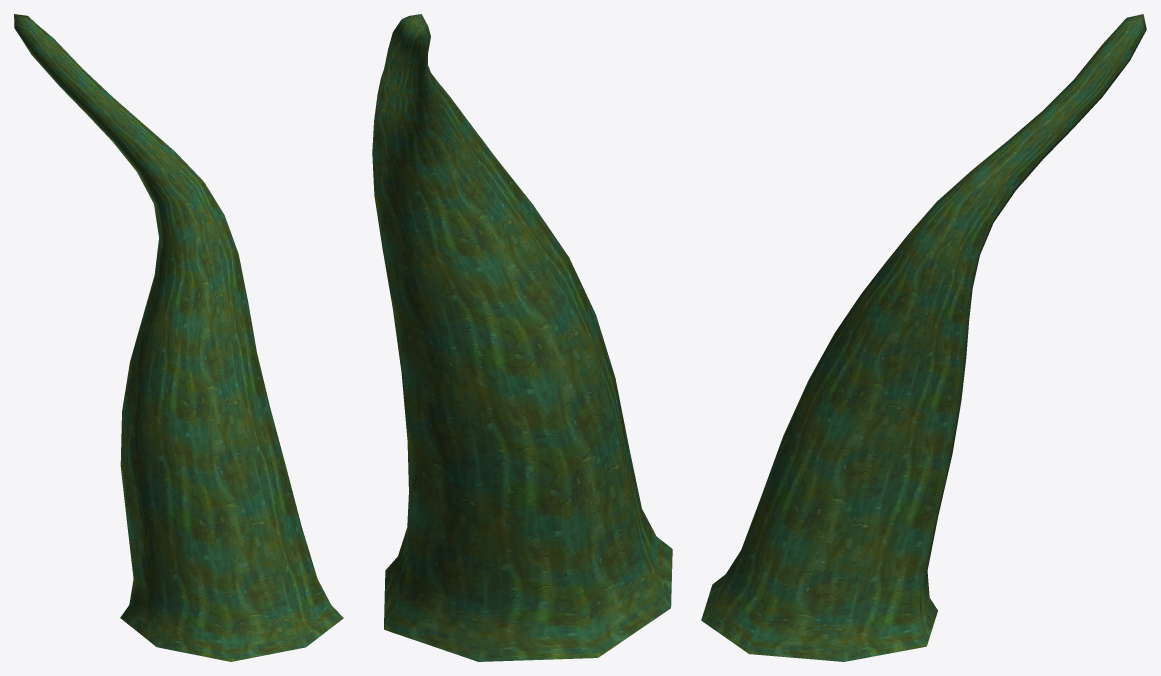
The model's file is MIRKWOOD_MIRK_PLAYSURFACE177.fbx.
3 renders of one model, left to right at view 1: azimuth 30°, elevation 25°; view 2: azimuth 150°, elevation 25°; view 3: azimuth 270°, elevation 25°, orthographic. The views are drawn at different scales.
Visible parts, largest first — view 1: MIRKWOOD_MIRK_PLAYSURFACE177; view 2: MIRKWOOD_MIRK_PLAYSURFACE177; view 3: MIRKWOOD_MIRK_PLAYSURFACE177.
Boxes of the visible parts, x1=… form: MIRKWOOD_MIRK_PLAYSURFACE177: x1=14, y1=14, x2=343, y2=661; MIRKWOOD_MIRK_PLAYSURFACE177: x1=372, y1=14, x2=672, y2=661; MIRKWOOD_MIRK_PLAYSURFACE177: x1=701, y1=14, x2=1146, y2=661.
Size of the model in its own units: 66078 by 189376 by 134304.
1 material, 1 textured.
